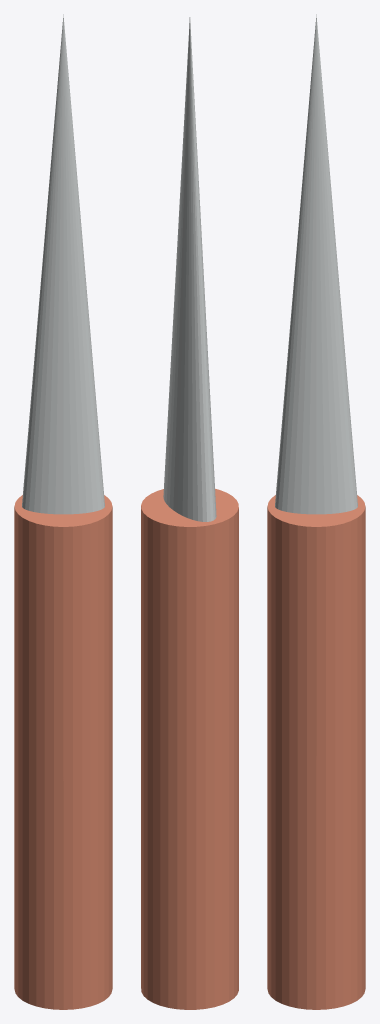
Rendered from knife.fbx.
3 views of the same model, side by side, from view 1: azimuth 90°, elevation 25°; view 2: azimuth 210°, elevation 25°; view 3: azimuth 270°, elevation 25° (orthographic).
Parts seen in each view (by area): view 1: Cylinder, Cone; view 2: Cylinder, Cone; view 3: Cylinder, Cone.
Boxes of the visible parts, <box> form: Cylinder: <box>14,495,112,1009</box>; Cone: <box>22,14,104,514</box>; Cylinder: <box>141,488,238,1009</box>; Cone: <box>163,17,216,521</box>; Cylinder: <box>267,495,365,1009</box>; Cone: <box>275,14,357,514</box>.
Size of the model in its own units: 24.64 by 271 by 24.64.
